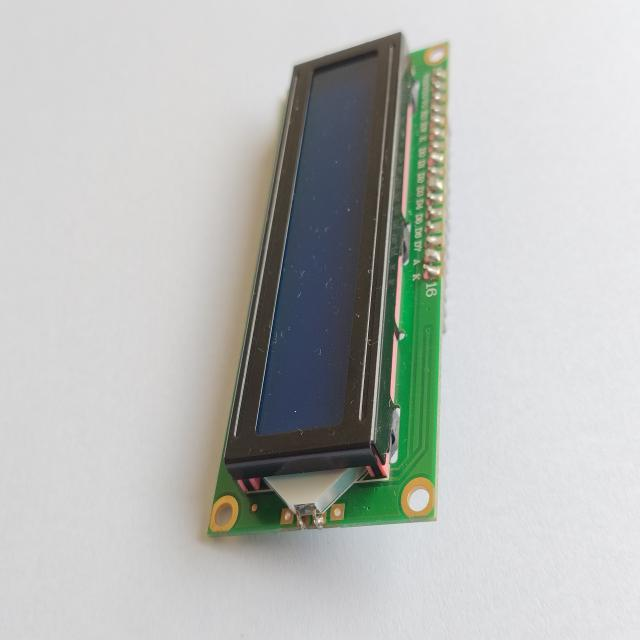lcd: (206, 30, 448, 536)
